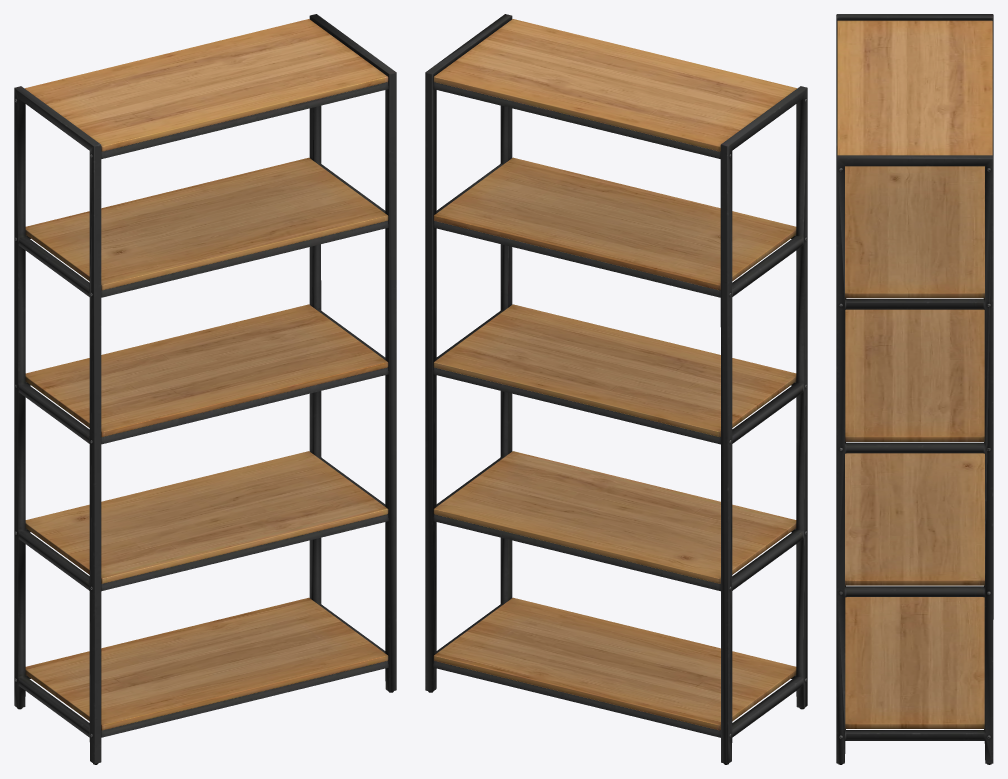
File: steel_frame_shelves_01.glb
3 views of the same model, side by side, from view 1: azimuth 30°, elevation 25°; view 2: azimuth 150°, elevation 25°; view 3: azimuth 270°, elevation 25° (orthographic). The views are drawn at different scales.
Parts seen in each view (by area): view 1: steel_frame_shelves_01; view 2: steel_frame_shelves_01; view 3: steel_frame_shelves_01.
Part boxes in pixels (x1,y1,x2,y2): steel_frame_shelves_01: [14, 14, 396, 764]; steel_frame_shelves_01: [425, 14, 807, 764]; steel_frame_shelves_01: [836, 14, 993, 764].
Bounding box in the file's own units: 10.97 × 21.41 × 5.02.
1 material, 1 textured.
